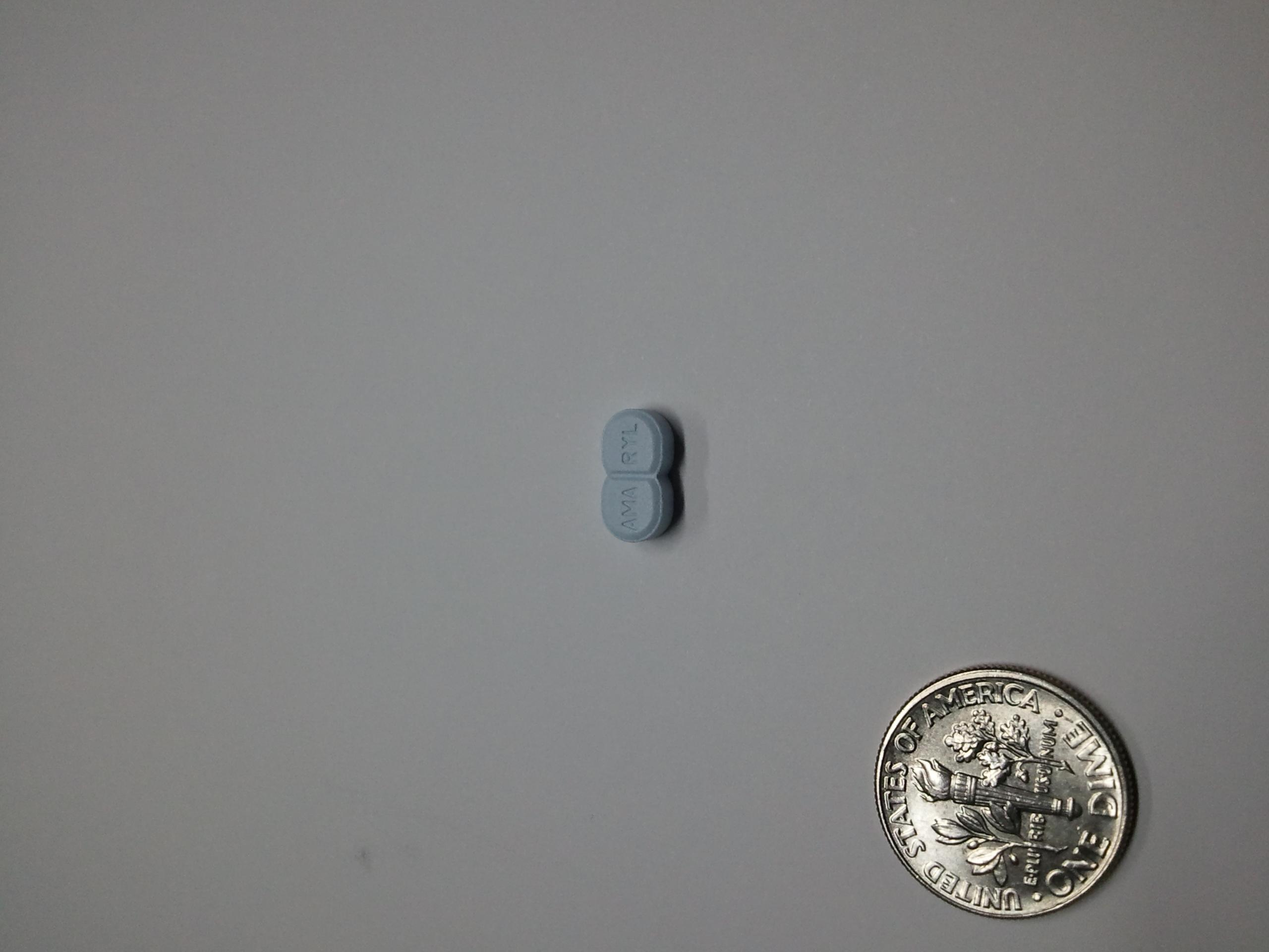Pill: (585, 385, 691, 575)
